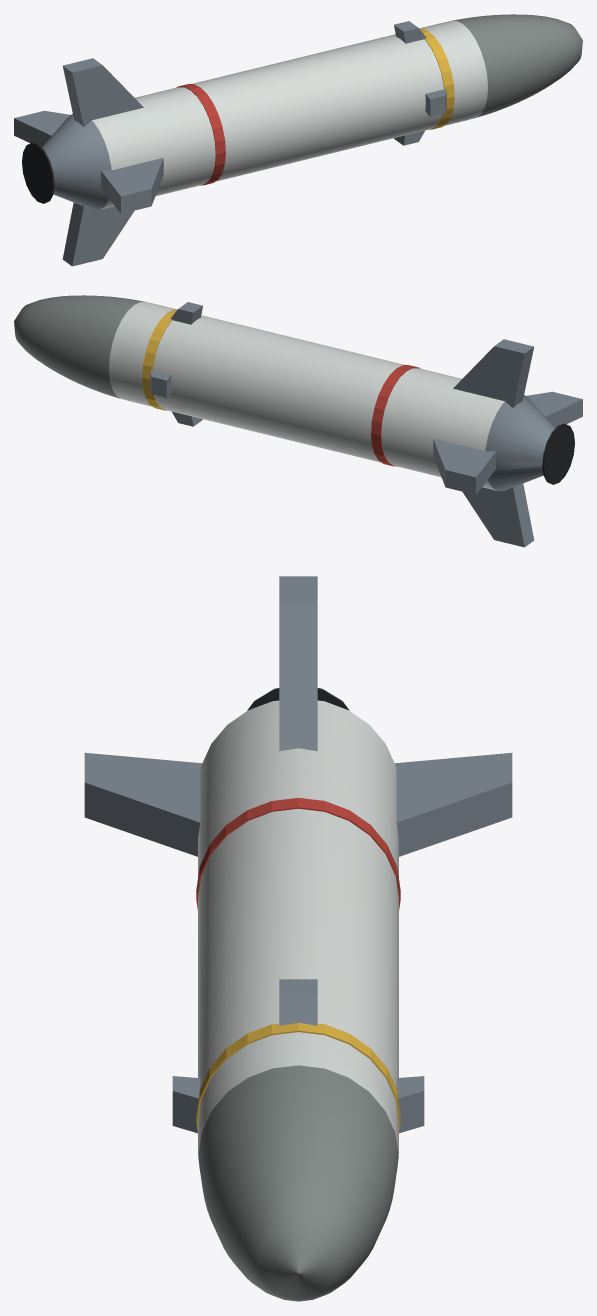
The model's file is orion_guided_bomb.glb.
3 renders of one model, top to bottom at view 1: azimuth 30°, elevation 25°; view 2: azimuth 150°, elevation 25°; view 3: azimuth 270°, elevation 25°, orthographic. The views are drawn at different scales.
Parts seen in each view (by area): view 1: missile_body, titanium, seeker, rubber, hazard_red, marking_yellow; view 2: missile_body, titanium, seeker, rubber, hazard_red, marking_yellow; view 3: missile_body, seeker, titanium, hazard_red, marking_yellow.
Part boxes in pixels (x1,y1,x2,y2): missile_body: [92, 21, 487, 209]; titanium: [14, 21, 446, 266]; seeker: [451, 14, 582, 117]; rubber: [22, 142, 54, 203]; hazard_red: [176, 84, 225, 185]; marking_yellow: [419, 28, 454, 129]; missile_body: [109, 302, 504, 490]; titanium: [150, 302, 582, 547]; seeker: [14, 295, 145, 398]; rubber: [542, 423, 574, 484]; hazard_red: [371, 365, 420, 466]; marking_yellow: [142, 309, 177, 410]; missile_body: [198, 700, 398, 1154]; seeker: [198, 1065, 398, 1301]; titanium: [84, 576, 512, 1132]; hazard_red: [196, 798, 400, 909]; marking_yellow: [196, 1023, 400, 1133].
Size of the model in its own units: 10 by 3.4 by 3.4.
